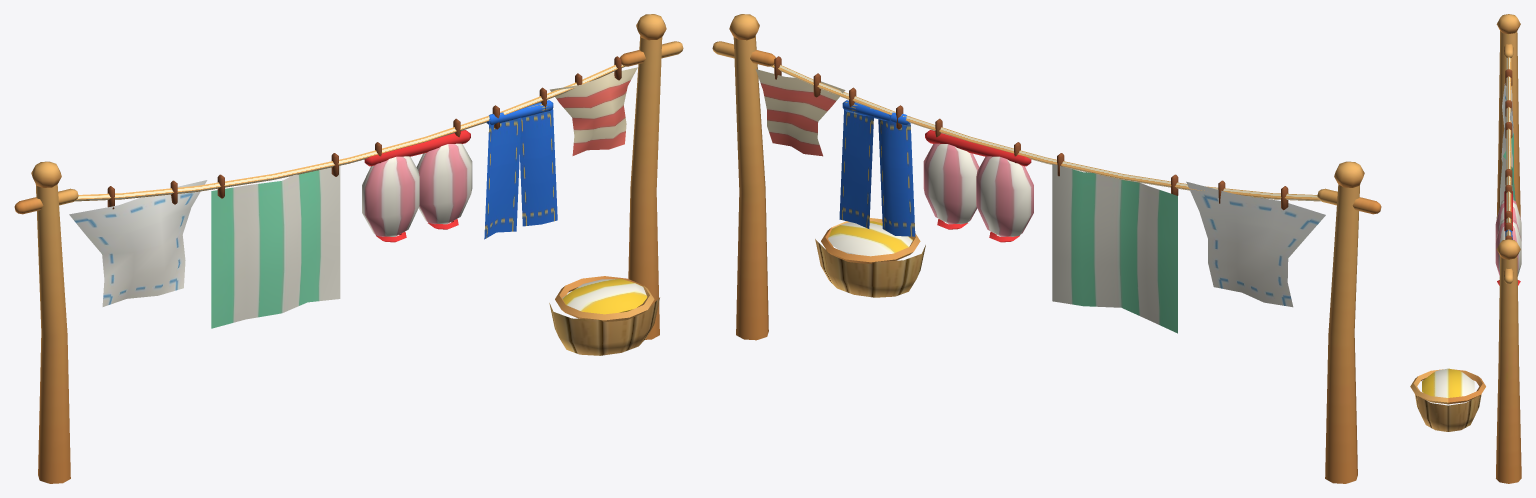
File: washing_line.glb
The picture shows the model from 3 angles, left to right: view 1: azimuth 30°, elevation 25°; view 2: azimuth 150°, elevation 25°; view 3: azimuth 270°, elevation 25°; orthographic projection. The views are drawn at different scales.
Parts seen in each view (by area): view 1: washing_line; view 2: washing_line; view 3: washing_line.
Part boxes in pixels (x1,y1,x2,y2): washing_line: (14, 14, 683, 483); washing_line: (712, 14, 1381, 483); washing_line: (1410, 14, 1521, 483).
Size of the model in its own units: 6.8 by 3.08 by 1.29.
Materials: 2 (2 with a texture image).
